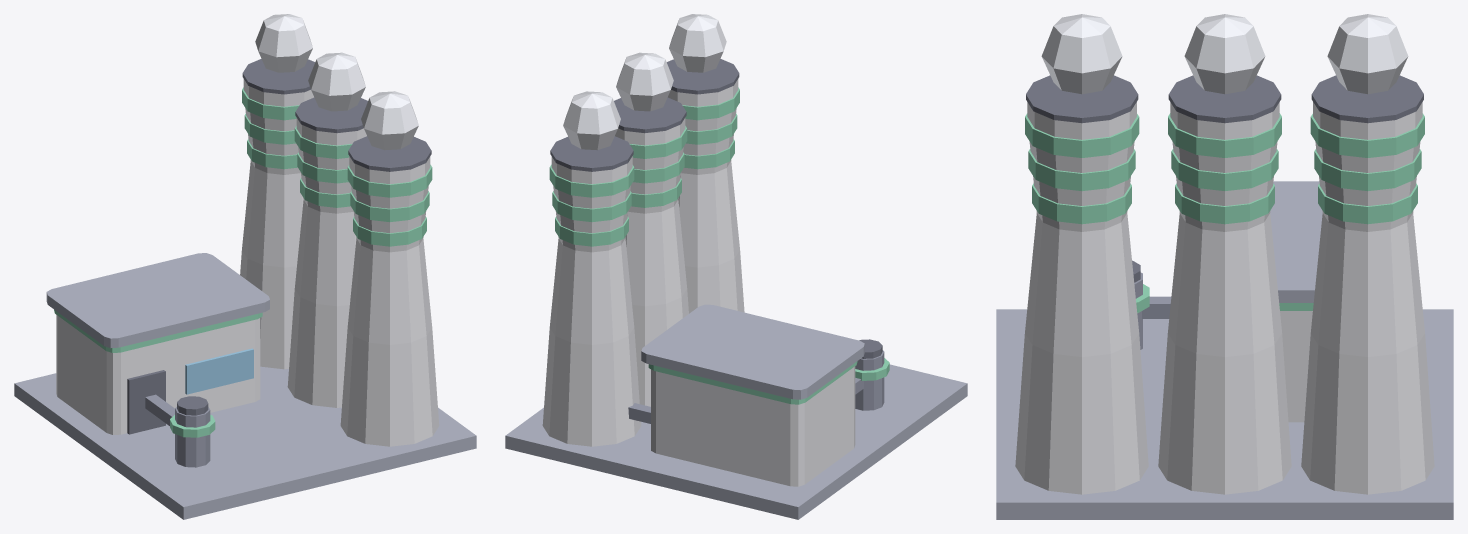
The model's file is geothermal-1x1-t5-tone-a.glb.
3 views of the same model, side by side, from view 1: azimuth 30°, elevation 25°; view 2: azimuth 150°, elevation 25°; view 3: azimuth 270°, elevation 25° (orthographic). The views are drawn at different scales.
Visible parts, largest first — view 1: geothermal-1x1-t5-tone-a; view 2: geothermal-1x1-t5-tone-a; view 3: geothermal-1x1-t5-tone-a.
Part boxes in pixels (x1,y1,x2,y2): geothermal-1x1-t5-tone-a: [14, 14, 476, 519]; geothermal-1x1-t5-tone-a: [505, 14, 967, 519]; geothermal-1x1-t5-tone-a: [996, 14, 1453, 519].
Bounding box in the file's own units: 0.96 × 1.08 × 0.96.
Materials: 1 (1 with a texture image).
